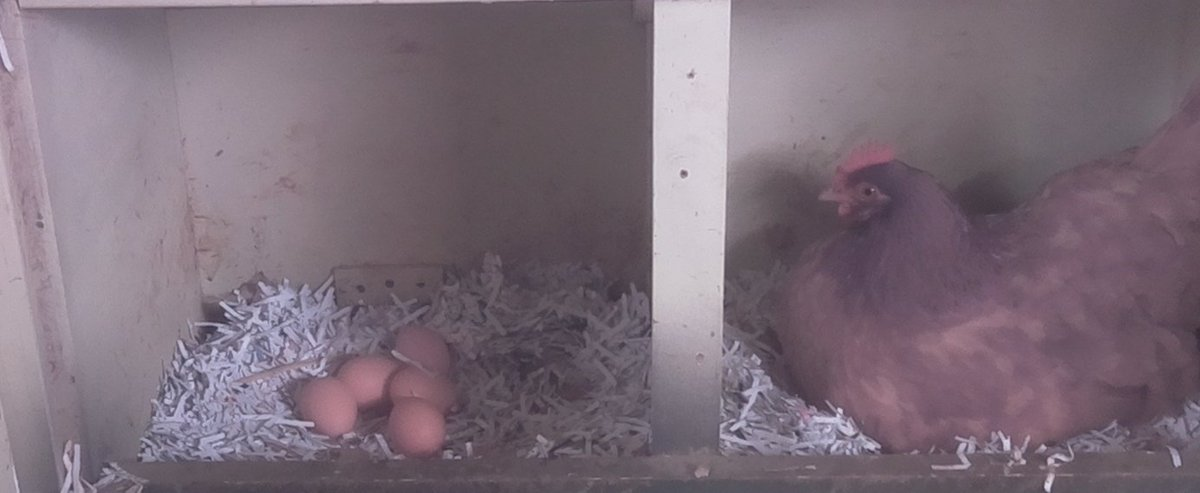egg: (384, 388, 454, 462), (298, 372, 361, 447), (333, 351, 405, 415), (388, 320, 460, 374), (383, 365, 458, 416)
hen: (769, 98, 1200, 448)
